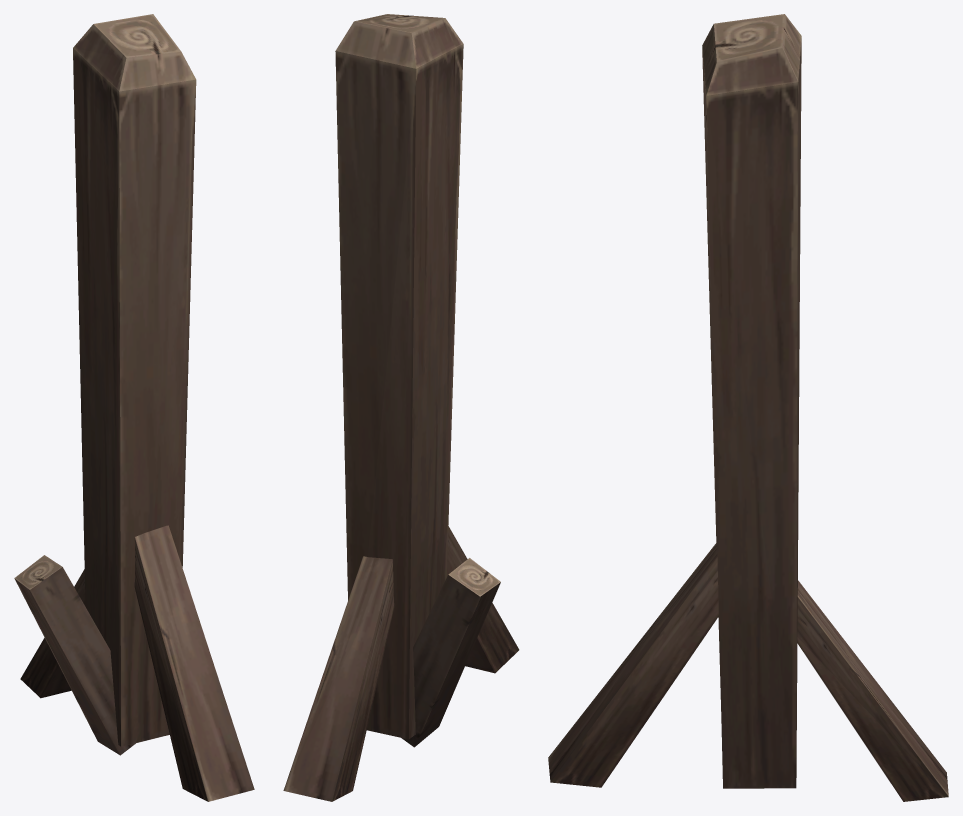
The model's file is bandit_wood_arm_01.fbx.
3 renders of one model, left to right at view 1: azimuth 30°, elevation 25°; view 2: azimuth 150°, elevation 25°; view 3: azimuth 270°, elevation 25°, orthographic. The views are drawn at different scales.
Visible parts, largest first — view 1: obj0.695; view 2: obj0.695; view 3: obj0.695.
Part boxes in pixels (x1,y1,x2,y2): obj0.695: [14, 14, 254, 801]; obj0.695: [283, 14, 519, 801]; obj0.695: [548, 14, 948, 801].
Bounding box in the file's own units: 0.911 × 4.27 × 2.04.
